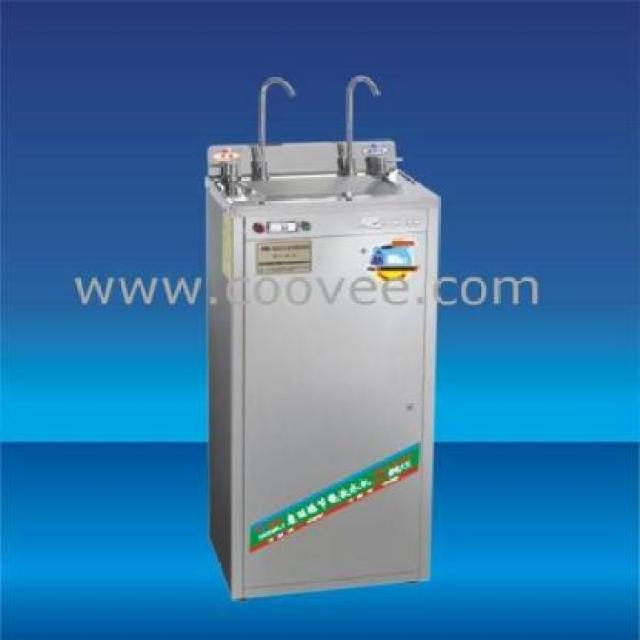cooler: (202, 69, 446, 606)
